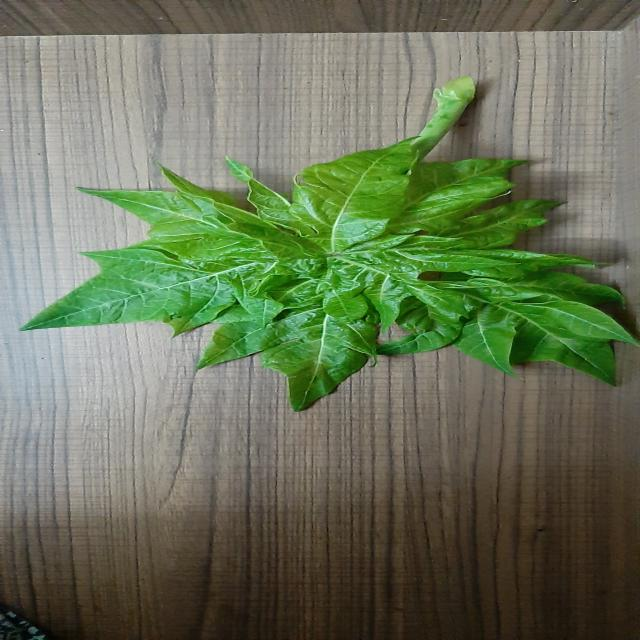papaya: (22, 78, 637, 410)
